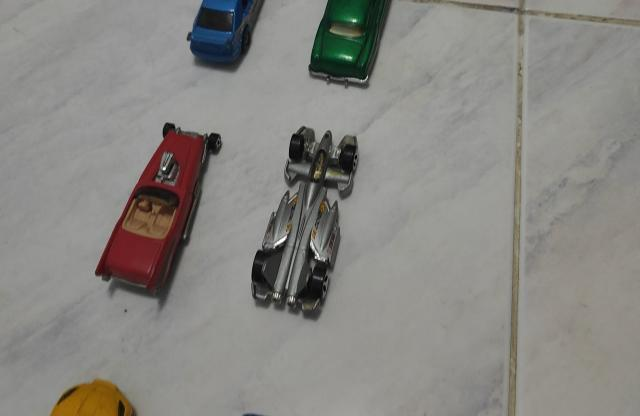03_V8: (94, 124, 222, 299)
04_MERZEDES: (186, 0, 265, 66)
05_DC121: (249, 128, 359, 314)
06_MASERATI: (308, 0, 392, 89)
07_RHLTURBO: (48, 379, 138, 416)
